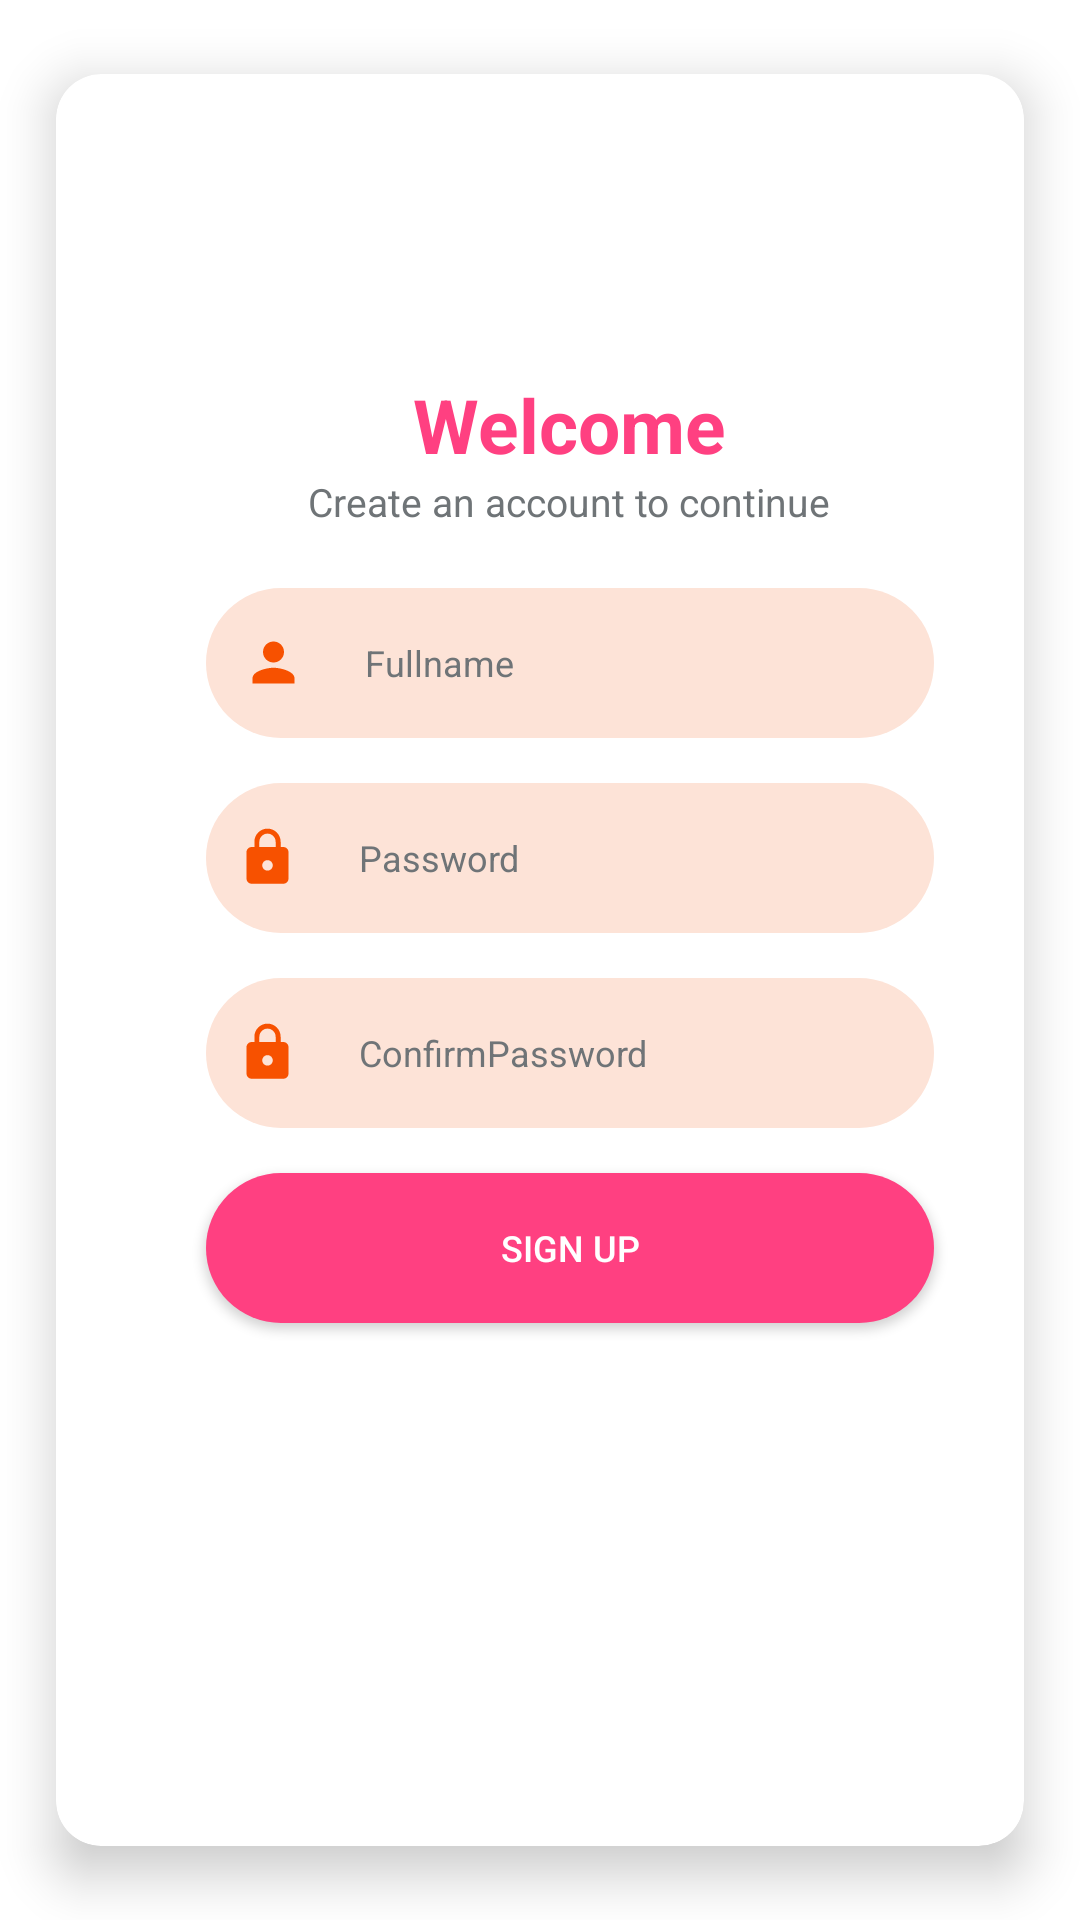

Named icons in this screenshot (1080*1920) and their centers, (x=x, y=y):
lock: (x=267, y=856), (x=267, y=1051)
person: (x=273, y=662)
